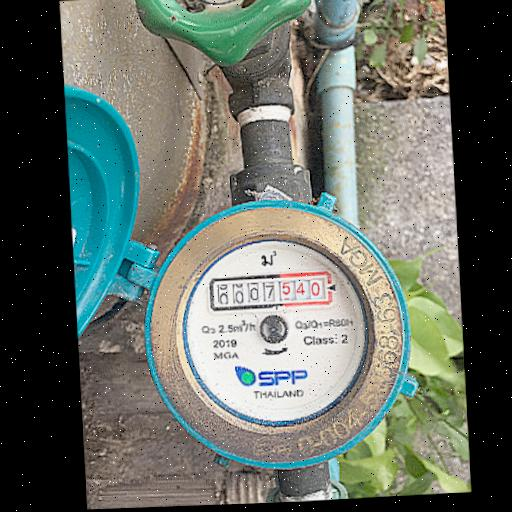0: (247, 283, 259, 304), (310, 280, 323, 299), (217, 285, 229, 305), (234, 284, 245, 304)
4: (295, 281, 307, 300)
5: (280, 281, 292, 302)
7: (264, 282, 275, 303)
border_water_meter_number: (208, 271, 334, 312)
